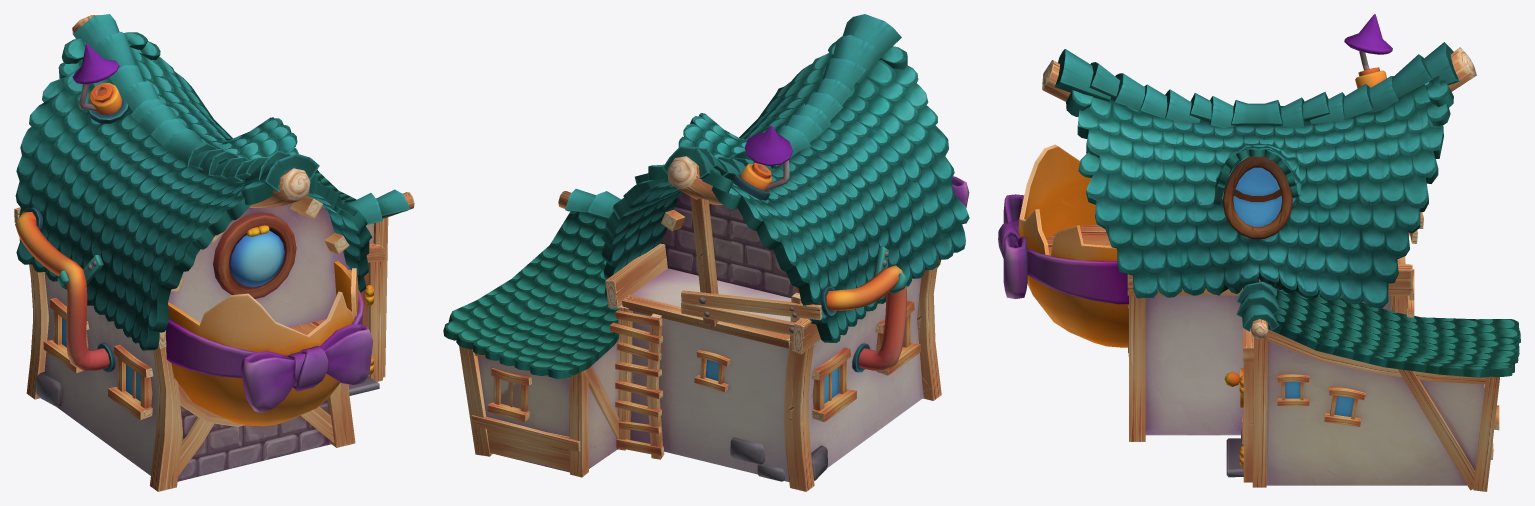
The model's file is SE_House_02.fbx.
3 renders of one model, left to right at view 1: azimuth 30°, elevation 25°; view 2: azimuth 150°, elevation 25°; view 3: azimuth 270°, elevation 25°, orthographic. The views are drawn at different scales.
Parts seen in each view (by area): view 1: SE_House_02; view 2: SE_House_02; view 3: SE_House_02.
Part boxes in pixels (bbox=[...]): SE_House_02: bbox=[14, 14, 414, 491]; SE_House_02: bbox=[443, 14, 969, 491]; SE_House_02: bbox=[998, 14, 1520, 491].
Size of the model in its own units: 10 by 9.47 by 12.55.
